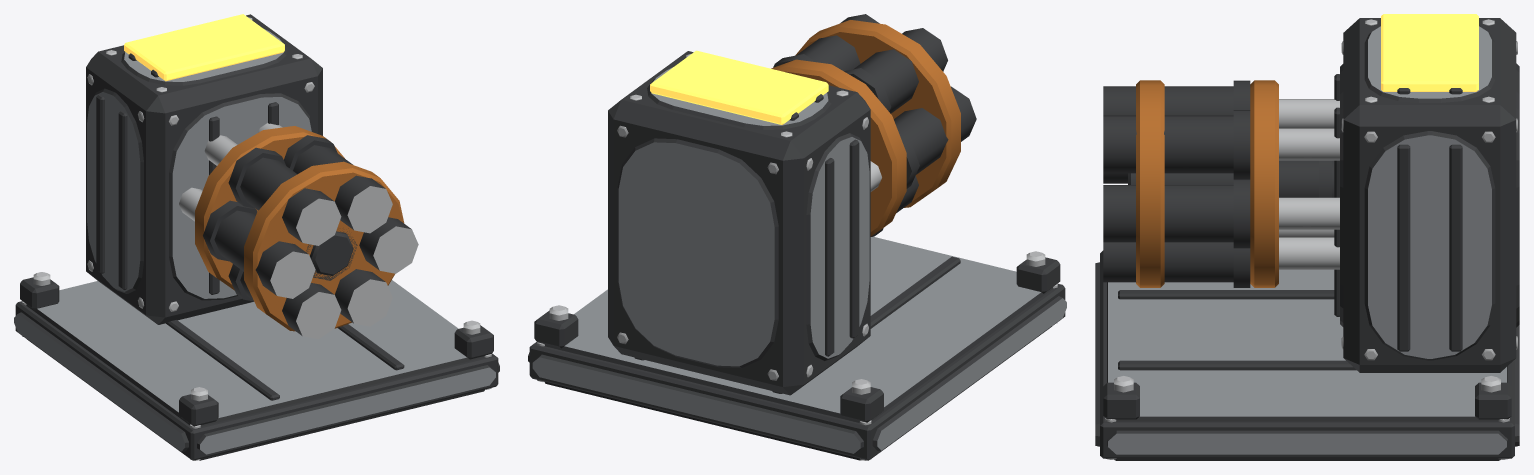
Rendered from R4X_RapidFire.fbx.
3 renders of one model, left to right at view 1: azimuth 30°, elevation 25°; view 2: azimuth 150°, elevation 25°; view 3: azimuth 270°, elevation 25°, orthographic. The views are drawn at different scales.
Parts seen in each view (by area): view 1: R4X_RapidFire_Body, R4X_RapidFire_Barrels; view 2: R4X_RapidFire_Body, R4X_RapidFire_Barrels; view 3: R4X_RapidFire_Body, R4X_RapidFire_Barrels.
Part boxes in pixels (x1,y1,x2,y2): R4X_RapidFire_Body: (14, 14, 499, 460); R4X_RapidFire_Barrels: (179, 123, 418, 339); R4X_RapidFire_Body: (528, 50, 1066, 460); R4X_RapidFire_Barrels: (771, 14, 976, 236); R4X_RapidFire_Body: (1095, 14, 1519, 460); R4X_RapidFire_Barrels: (1103, 80, 1339, 287).
Bounding box in the file's own units: 0.52 × 0.445 × 0.52.
